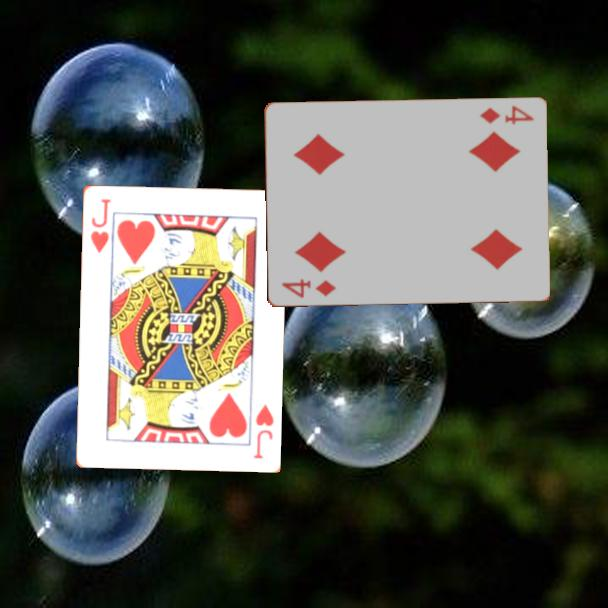d04: (278, 275, 339, 301), (476, 102, 536, 128)
h11: (87, 195, 113, 256), (250, 400, 276, 461)
